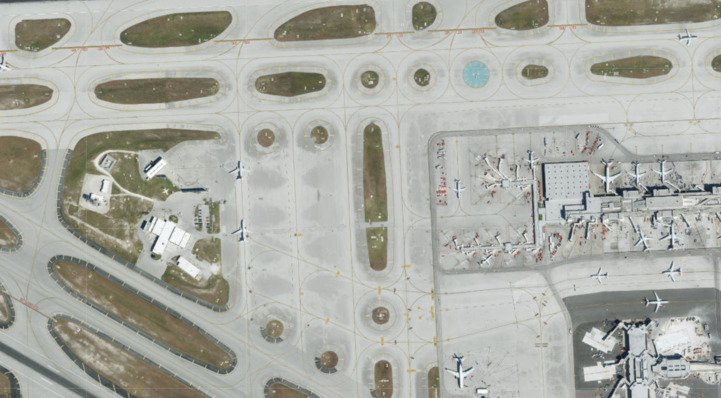aircraft: (443, 354, 478, 389), (591, 159, 624, 195), (633, 224, 657, 256), (644, 289, 671, 314), (660, 223, 685, 250), (660, 259, 685, 285), (655, 157, 673, 187), (628, 161, 648, 187), (229, 160, 251, 183), (676, 26, 699, 48), (232, 219, 253, 243), (449, 178, 469, 200), (591, 266, 609, 288), (522, 148, 541, 168), (476, 252, 494, 267)
